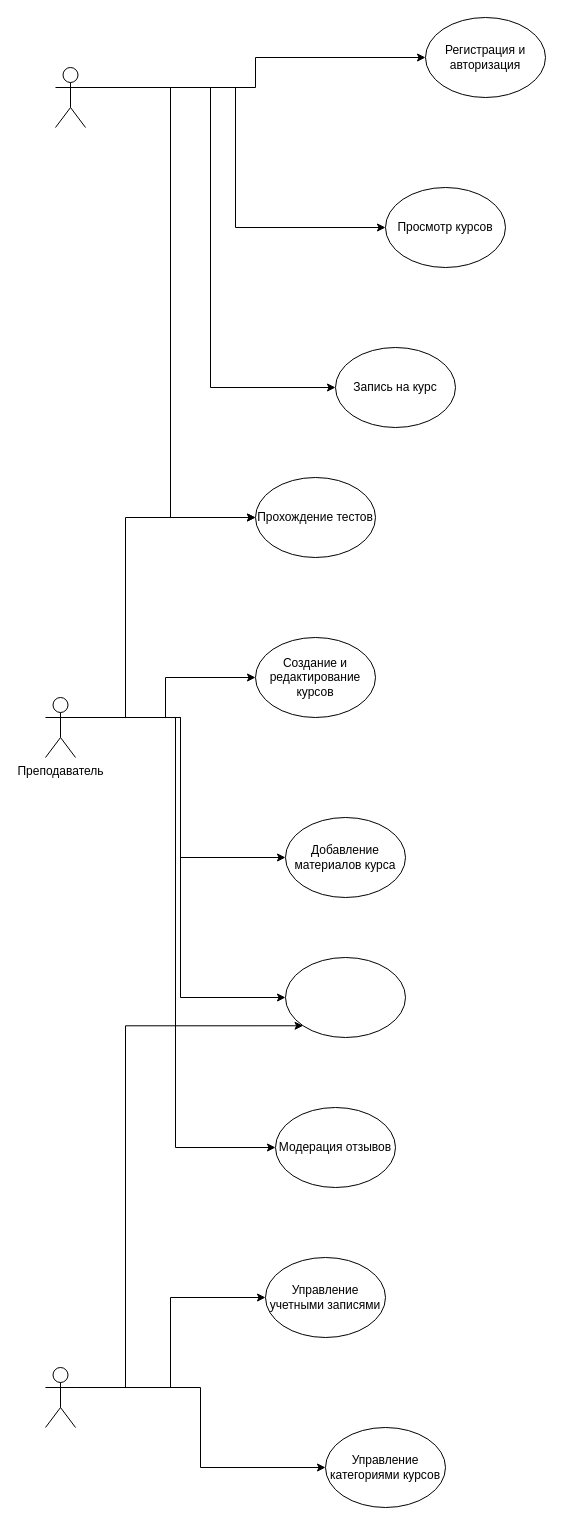
This 563x1525 diagram has some shape labels left out. The shapes that lost their labels are listed below. From the top down, each one's centre as x and y in pixels, then its label:
At (70,97): "Студент".
At (345,997): "Просмотр аналитики".
At (60,1397): "Администратор".
